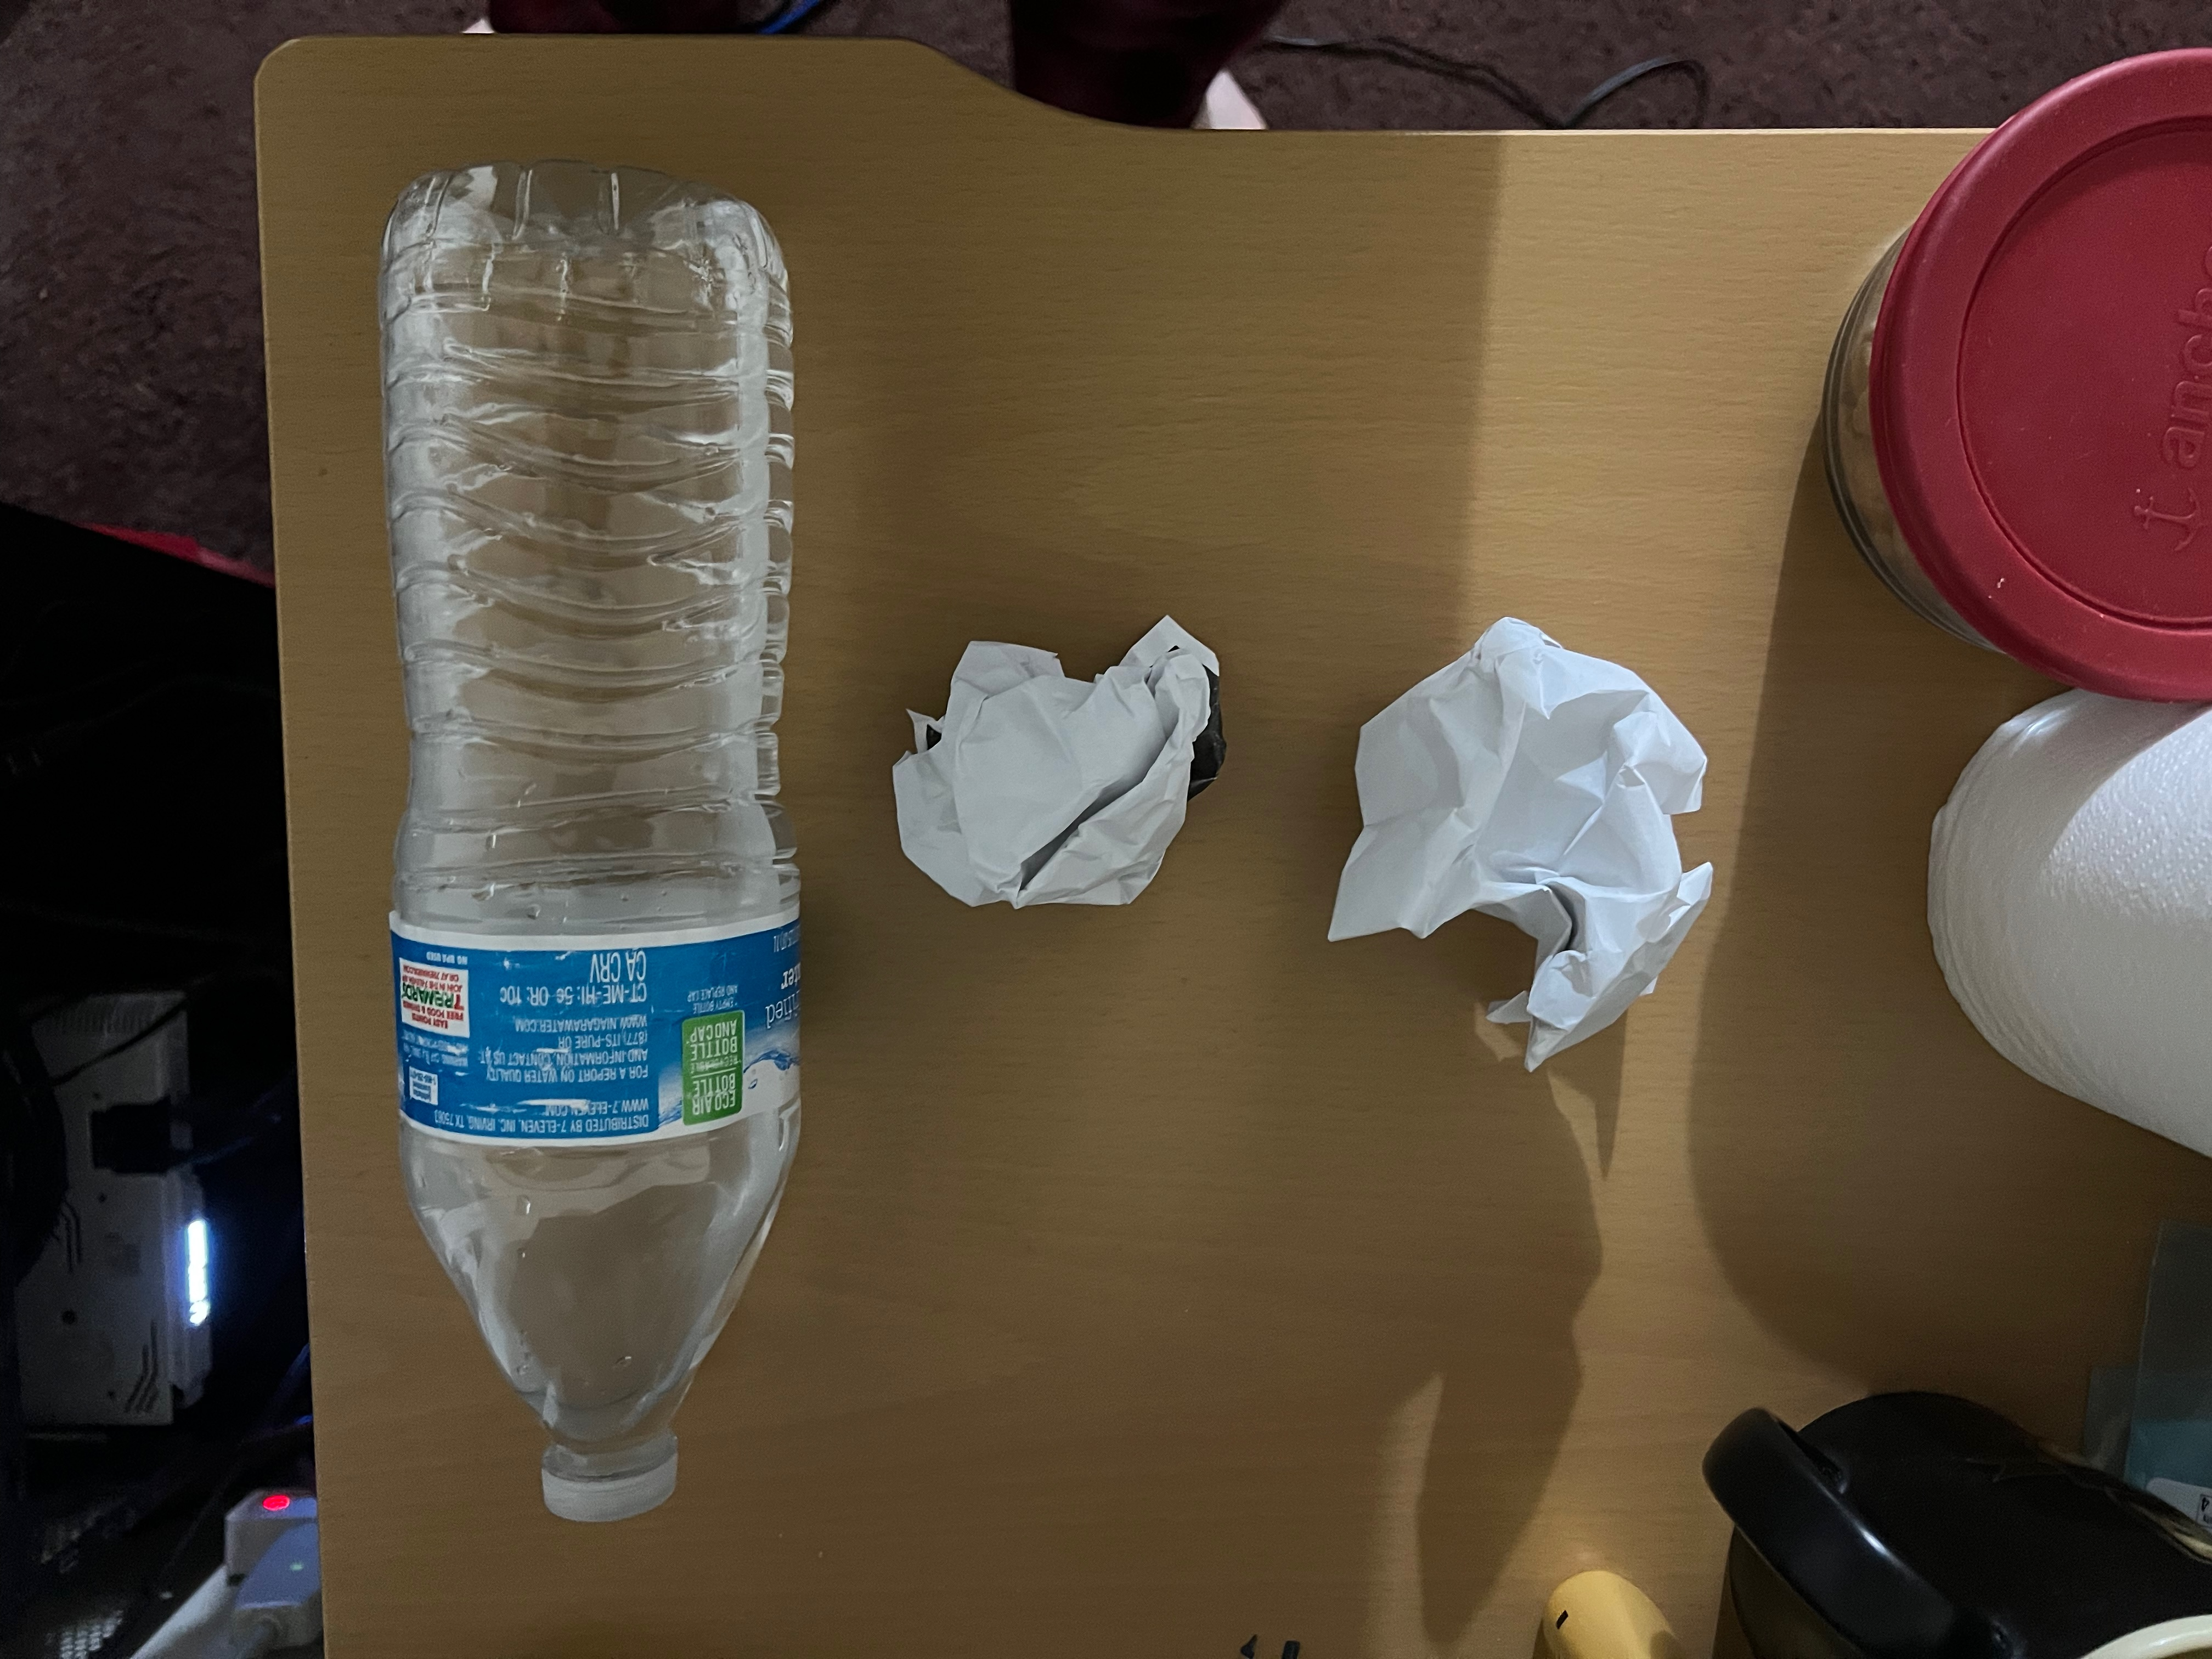trash bottle: (354, 146, 840, 1549)
trash paper: (1318, 598, 1726, 1079), (878, 592, 1244, 948)
